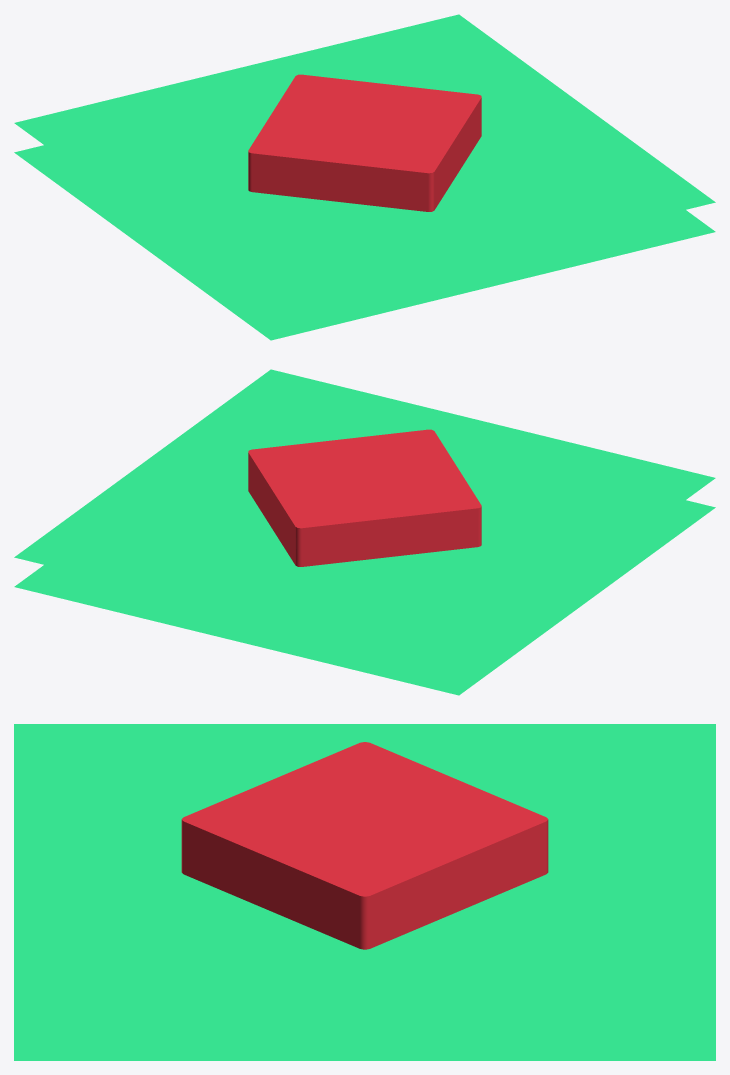
File: obstacleDiamond.fbx
The picture shows the model from 3 angles, top to bottom: view 1: azimuth 30°, elevation 25°; view 2: azimuth 150°, elevation 25°; view 3: azimuth 270°, elevation 25°; orthographic projection. The views are drawn at different scales.
Parts seen in each view (by area): view 1: obstacleDiamond; view 2: obstacleDiamond; view 3: obstacleDiamond.
Part boxes in pixels (box(x1,y1,x2,y2)): obstacleDiamond: box(14, 14, 715, 340); obstacleDiamond: box(14, 369, 715, 695); obstacleDiamond: box(14, 724, 715, 1060).
Bounding box in the file's own units: 99.99 × 99.99 × 14.67.
